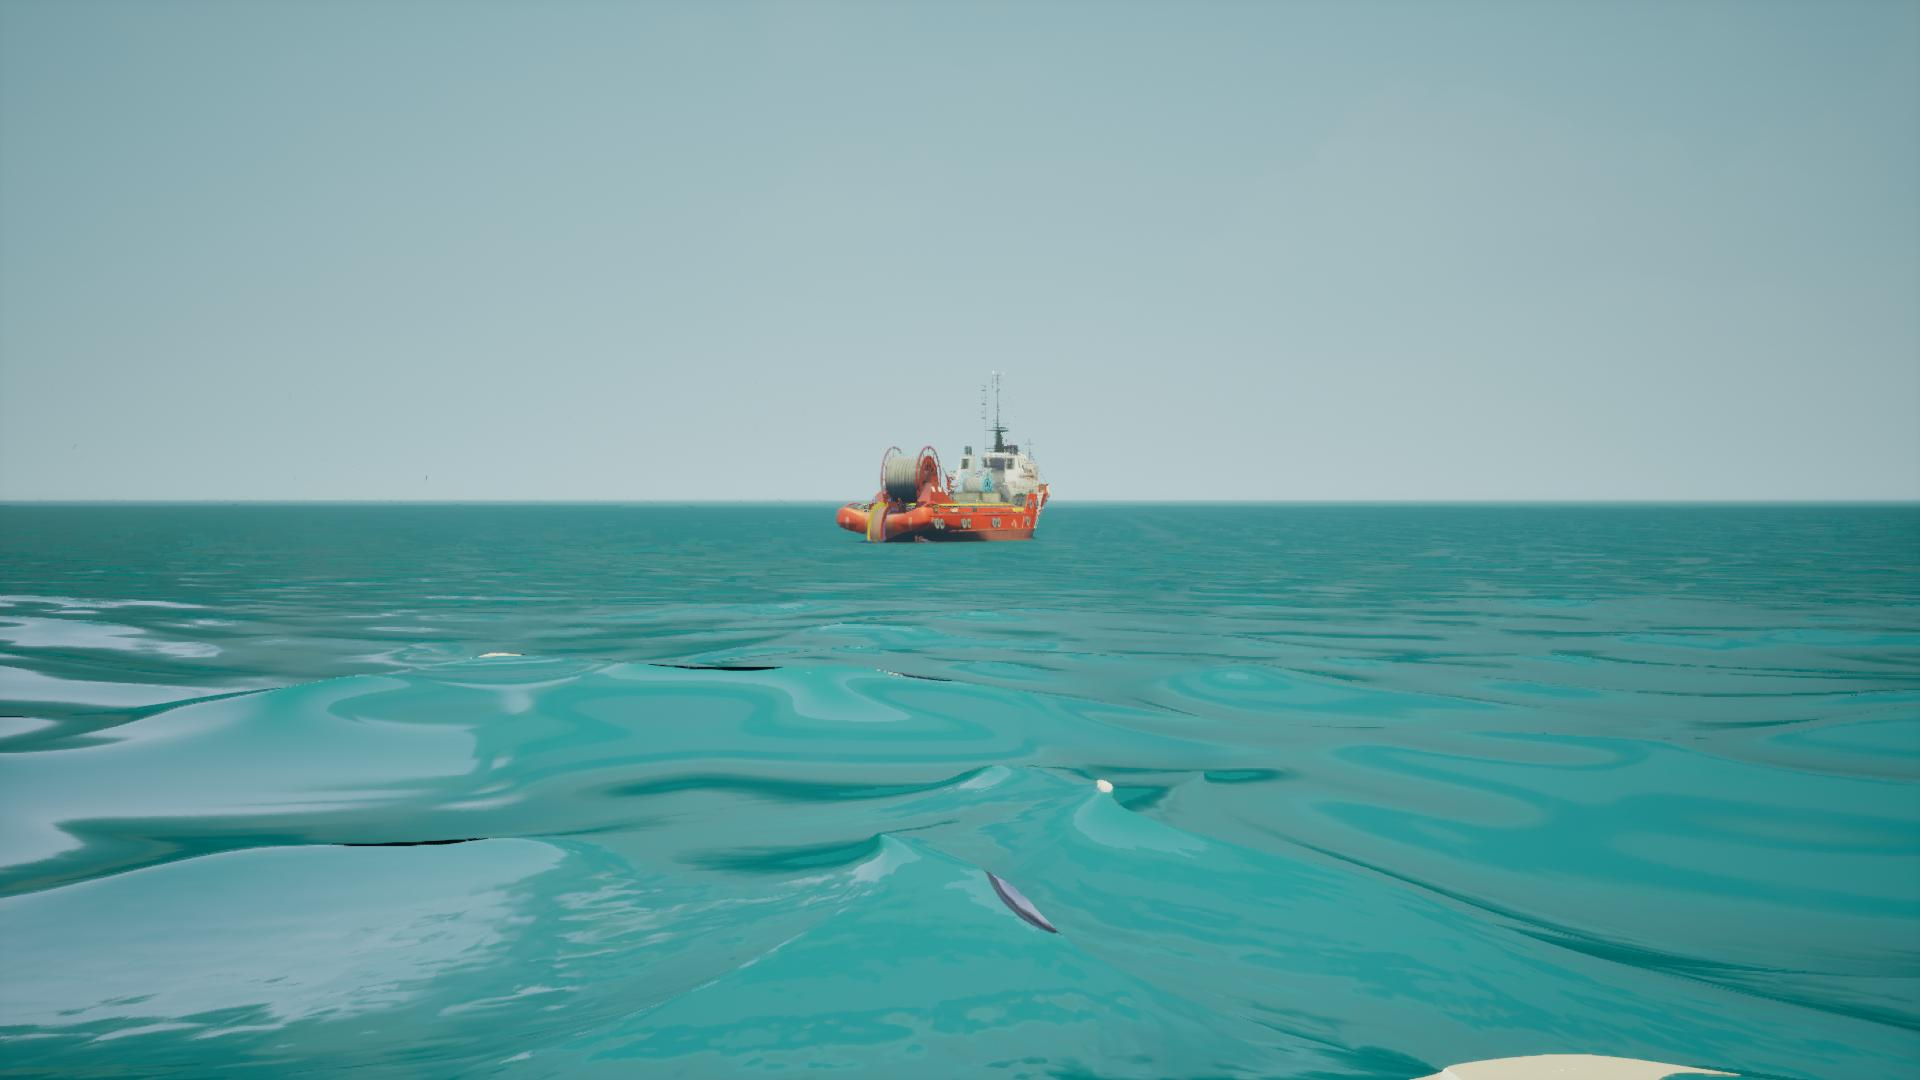Tug Boat: (844, 369, 1056, 546)
